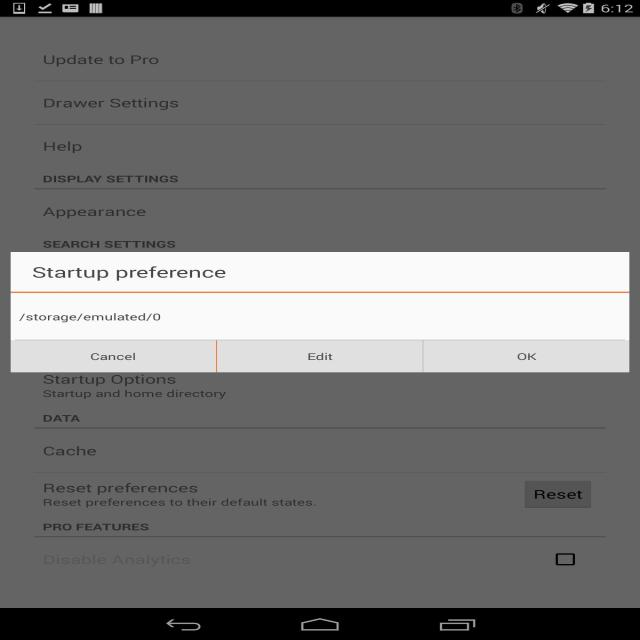button: (13, 340, 217, 371), (425, 341, 628, 372), (220, 340, 420, 370), (526, 480, 594, 510), (554, 549, 580, 566)
heading: (30, 262, 228, 282), (39, 171, 184, 186), (39, 236, 180, 251), (39, 521, 158, 537), (35, 411, 90, 424)
text: (29, 478, 319, 508), (40, 376, 232, 400), (42, 94, 184, 114), (36, 552, 196, 568), (37, 202, 153, 222), (15, 311, 166, 325), (40, 53, 164, 69), (41, 444, 97, 460), (42, 137, 87, 154)
